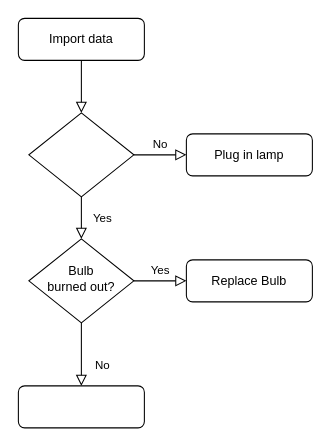
This 331x446 diagram has some shape labels left out. The centre of each missing label's shape, as x and y in pixels:
Declare class names: (x=81, y=154)
Repair Lamp: (x=80, y=406)
